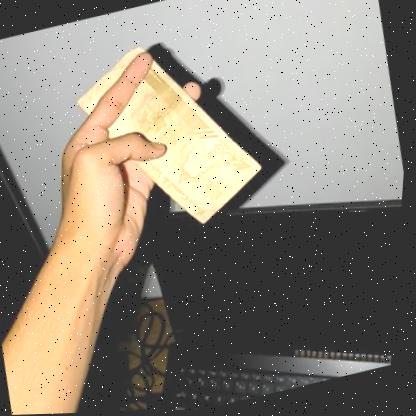vef_back: (60, 21, 281, 252)
